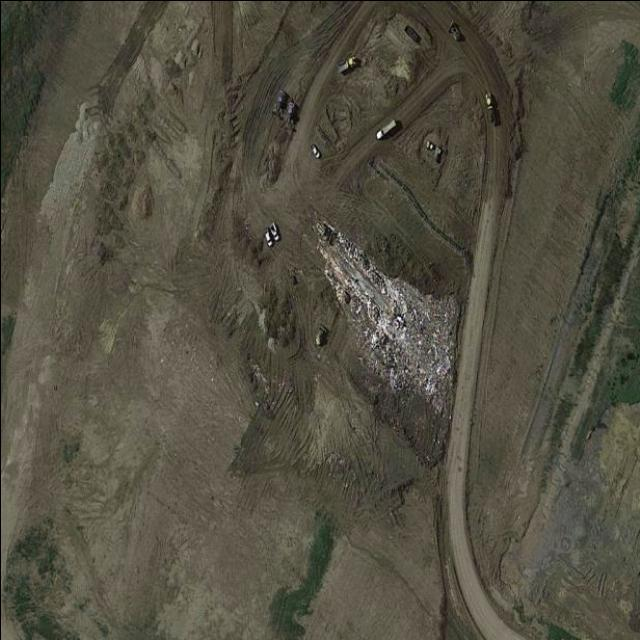dump_site: (290, 216, 479, 420)
